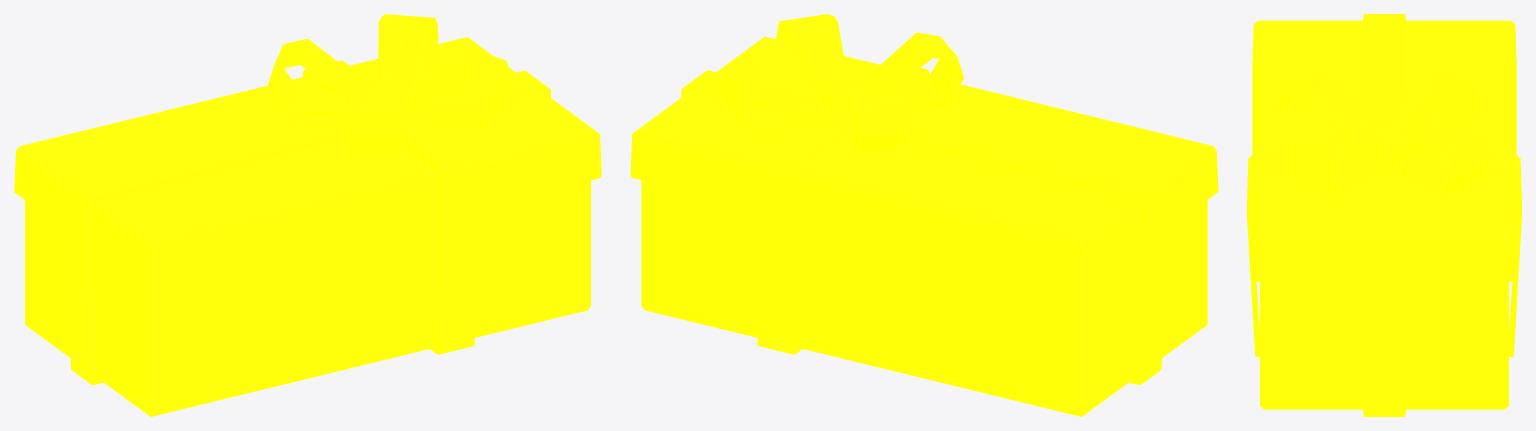
The model's file is gift-christmas-long-c.glb.
3 views of the same model, side by side, from view 1: azimuth 30°, elevation 25°; view 2: azimuth 150°, elevation 25°; view 3: azimuth 270°, elevation 25° (orthographic).
Visible parts, largest first — view 1: gift_christmas_long_c; view 2: gift_christmas_long_c; view 3: gift_christmas_long_c.
Boxes of the visible parts, left/top/right/bottom form: gift_christmas_long_c: left=14, top=14, right=601, bottom=416; gift_christmas_long_c: left=630, top=14, right=1218, bottom=416; gift_christmas_long_c: left=1247, top=14, right=1521, bottom=416.
Size of the model in its own units: 0.6387 by 0.3259 by 0.3314.
1 material, 1 textured.
